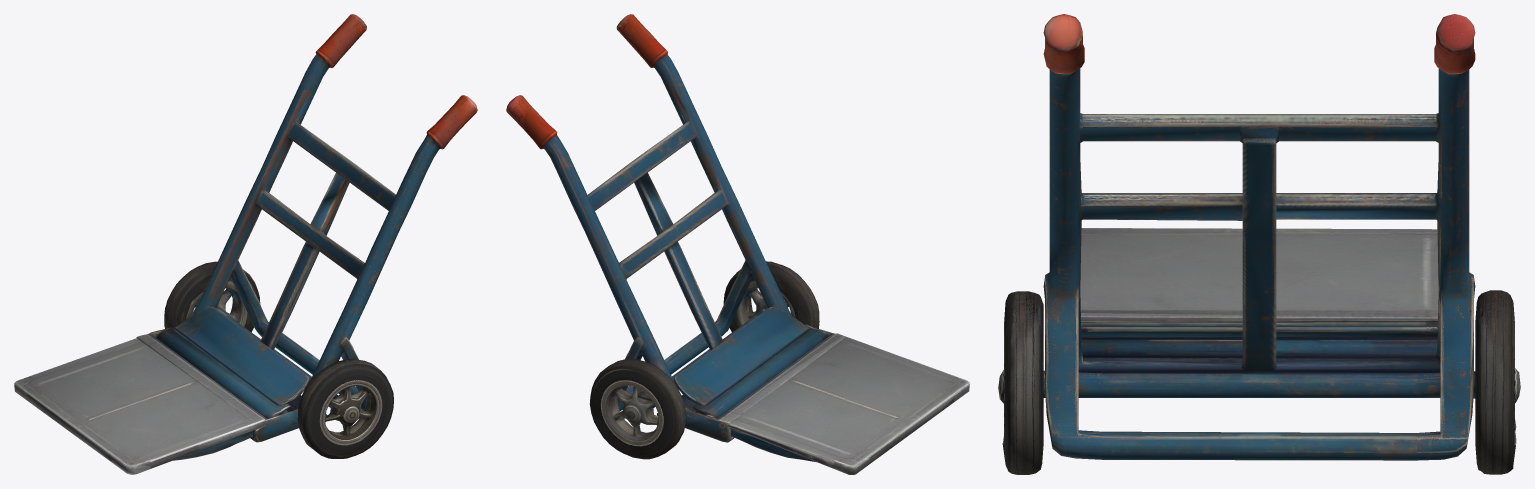
The model's file is Diable_chariot.glb.
The picture shows the model from 3 angles, left to right: view 1: azimuth 30°, elevation 25°; view 2: azimuth 150°, elevation 25°; view 3: azimuth 270°, elevation 25°; orthographic projection. The views are drawn at different scales.
Parts seen in each view (by area): view 1: Mesh_0; view 2: Mesh_0; view 3: Mesh_0.
Boxes of the visible parts, <box> form: Mesh_0: <box>14,14,477,474</box>; Mesh_0: <box>506,14,969,474</box>; Mesh_0: <box>998,14,1520,474</box>.
Size of the model in its own units: 1.26 by 1.1 by 0.924.
Materials: 1 (1 with a texture image).
